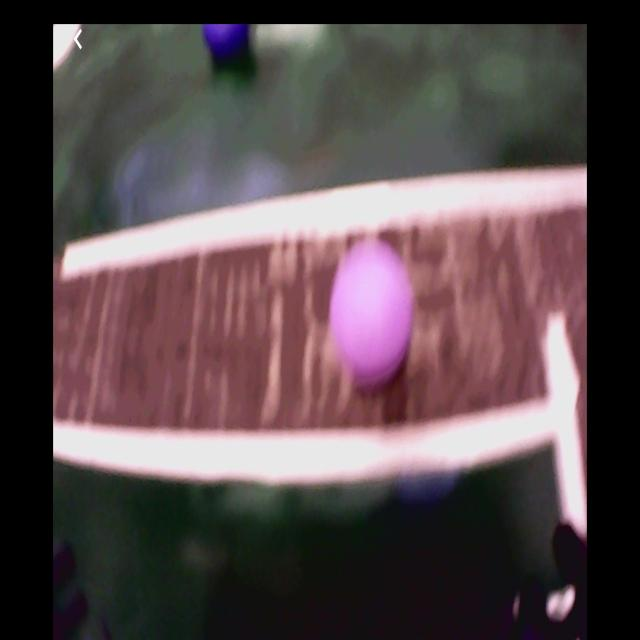ball: (332, 238, 414, 389), (202, 25, 251, 58)
